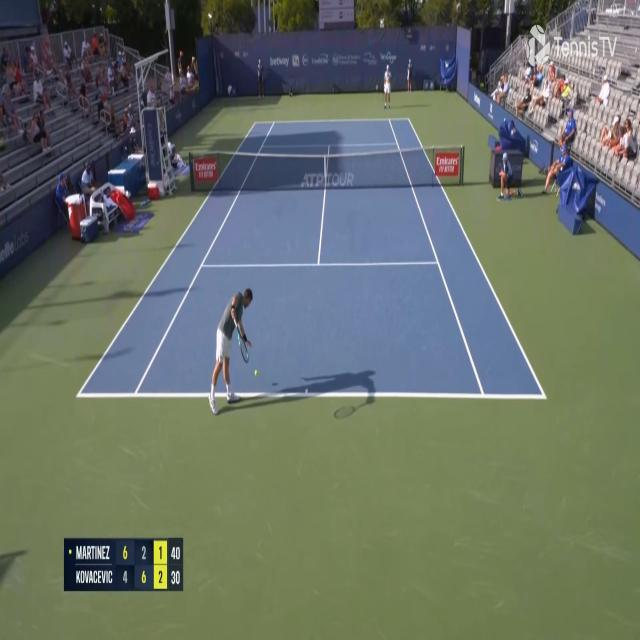tennis-player: (207, 284, 254, 418), (381, 63, 393, 108)
